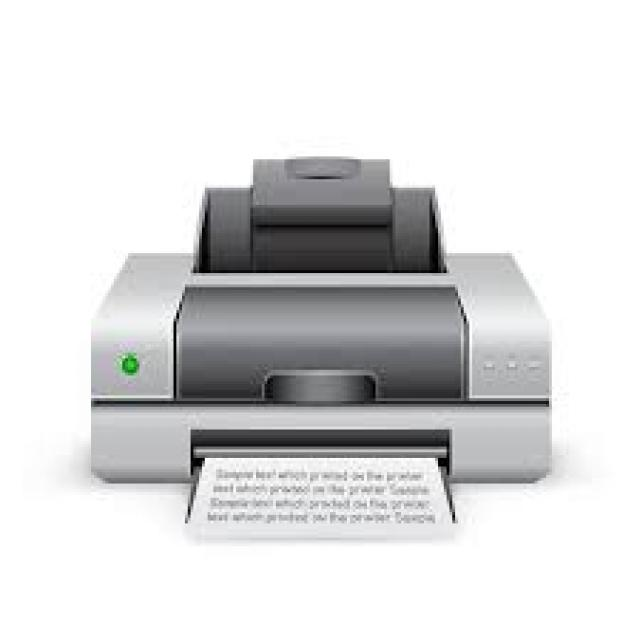printer: (30, 91, 618, 575)
